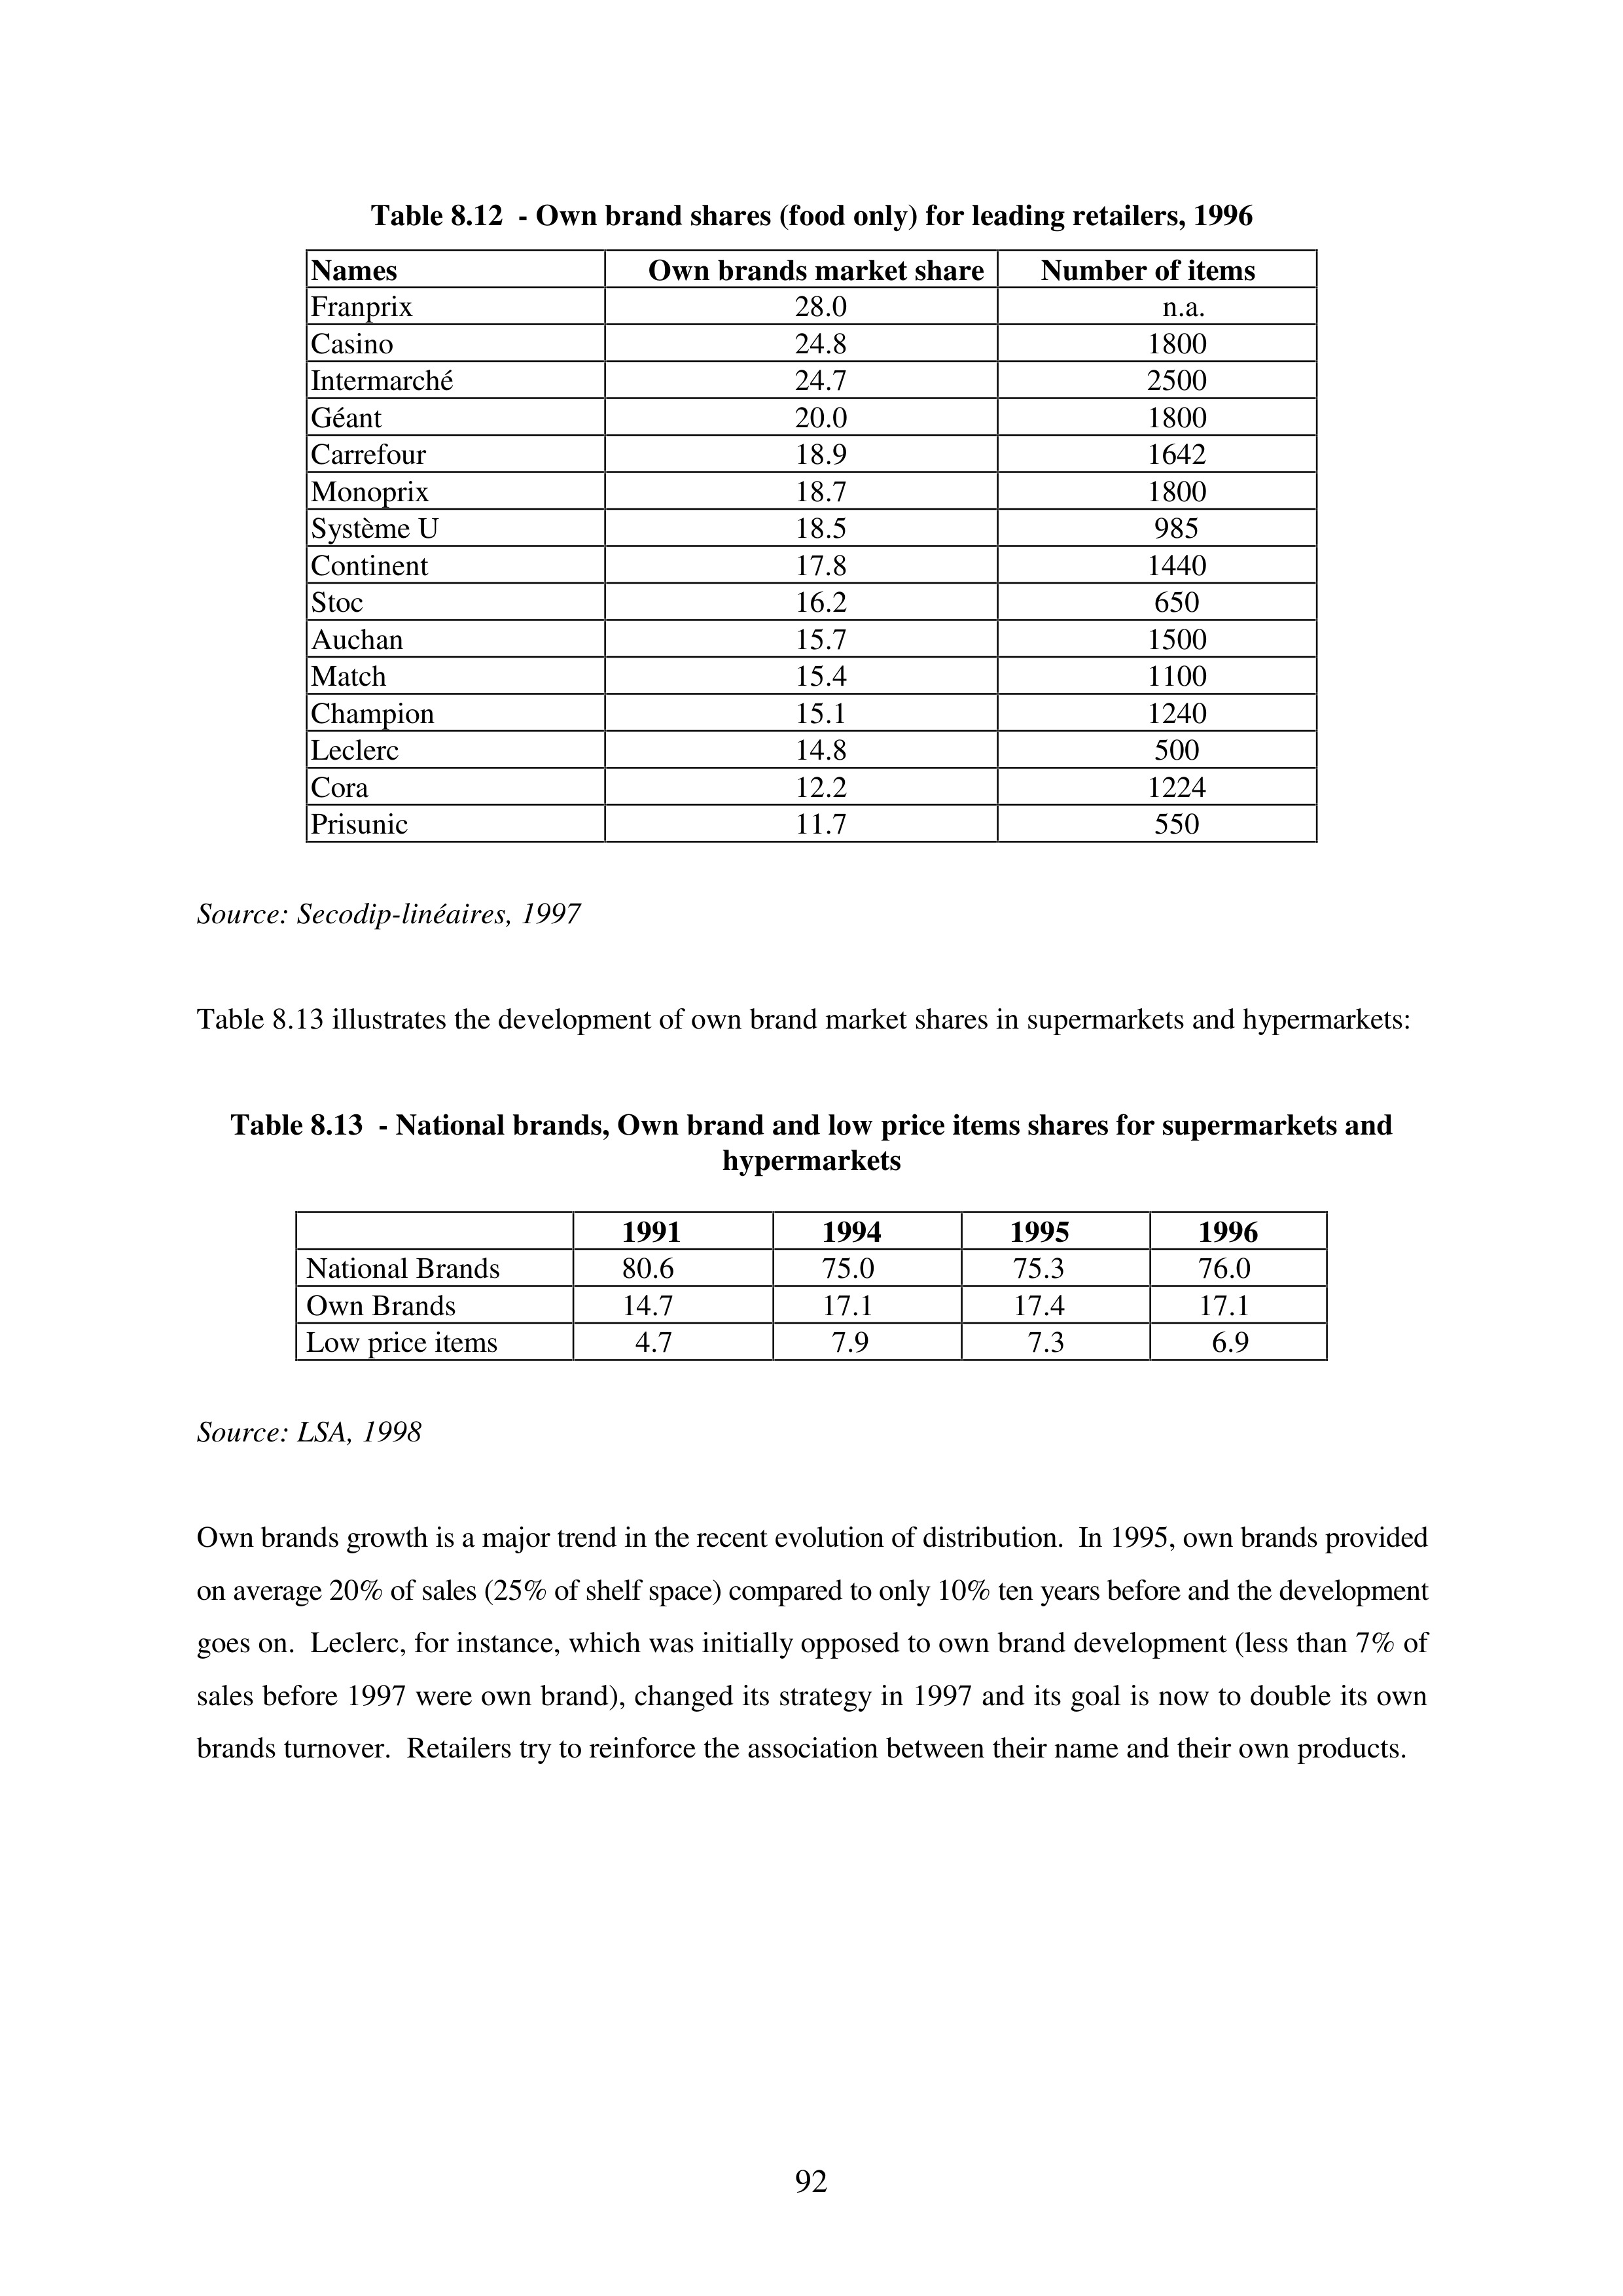table: (311, 249, 1256, 843), (306, 1211, 1258, 1360)
